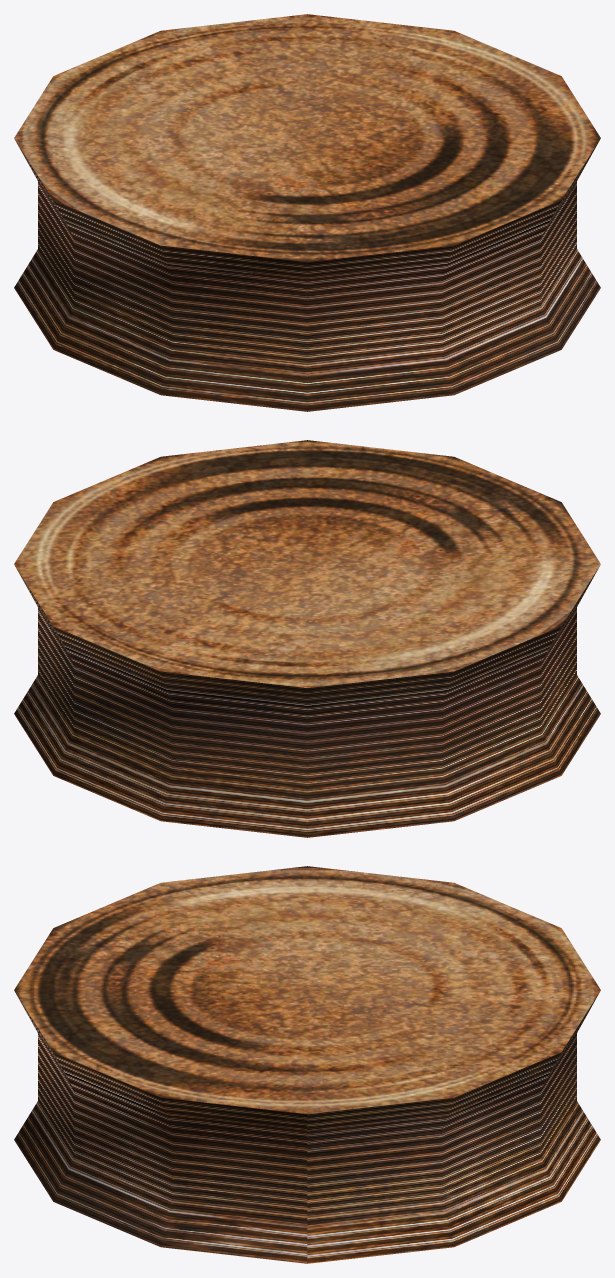
The model's file is TinCan2_Squashed.FBX.
3 renders of one model, top to bottom at view 1: azimuth 30°, elevation 25°; view 2: azimuth 150°, elevation 25°; view 3: azimuth 270°, elevation 25°, orthographic.
Visible parts, largest first — view 1: TinCan2_Squashed; view 2: TinCan2_Squashed; view 3: TinCan2_Squashed.
Part boxes in pixels (box(x1,y1,x2,y2)): TinCan2_Squashed: box(14, 14, 600, 411); TinCan2_Squashed: box(14, 440, 600, 837); TinCan2_Squashed: box(14, 866, 600, 1263).
Size of the model in its own units: 0.0956 by 0.0269 by 0.0956.
